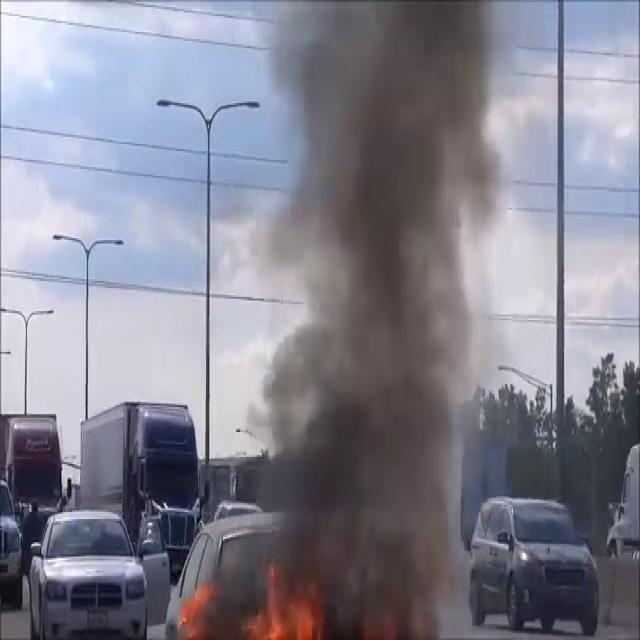Smoke: (234, 0, 508, 633)
